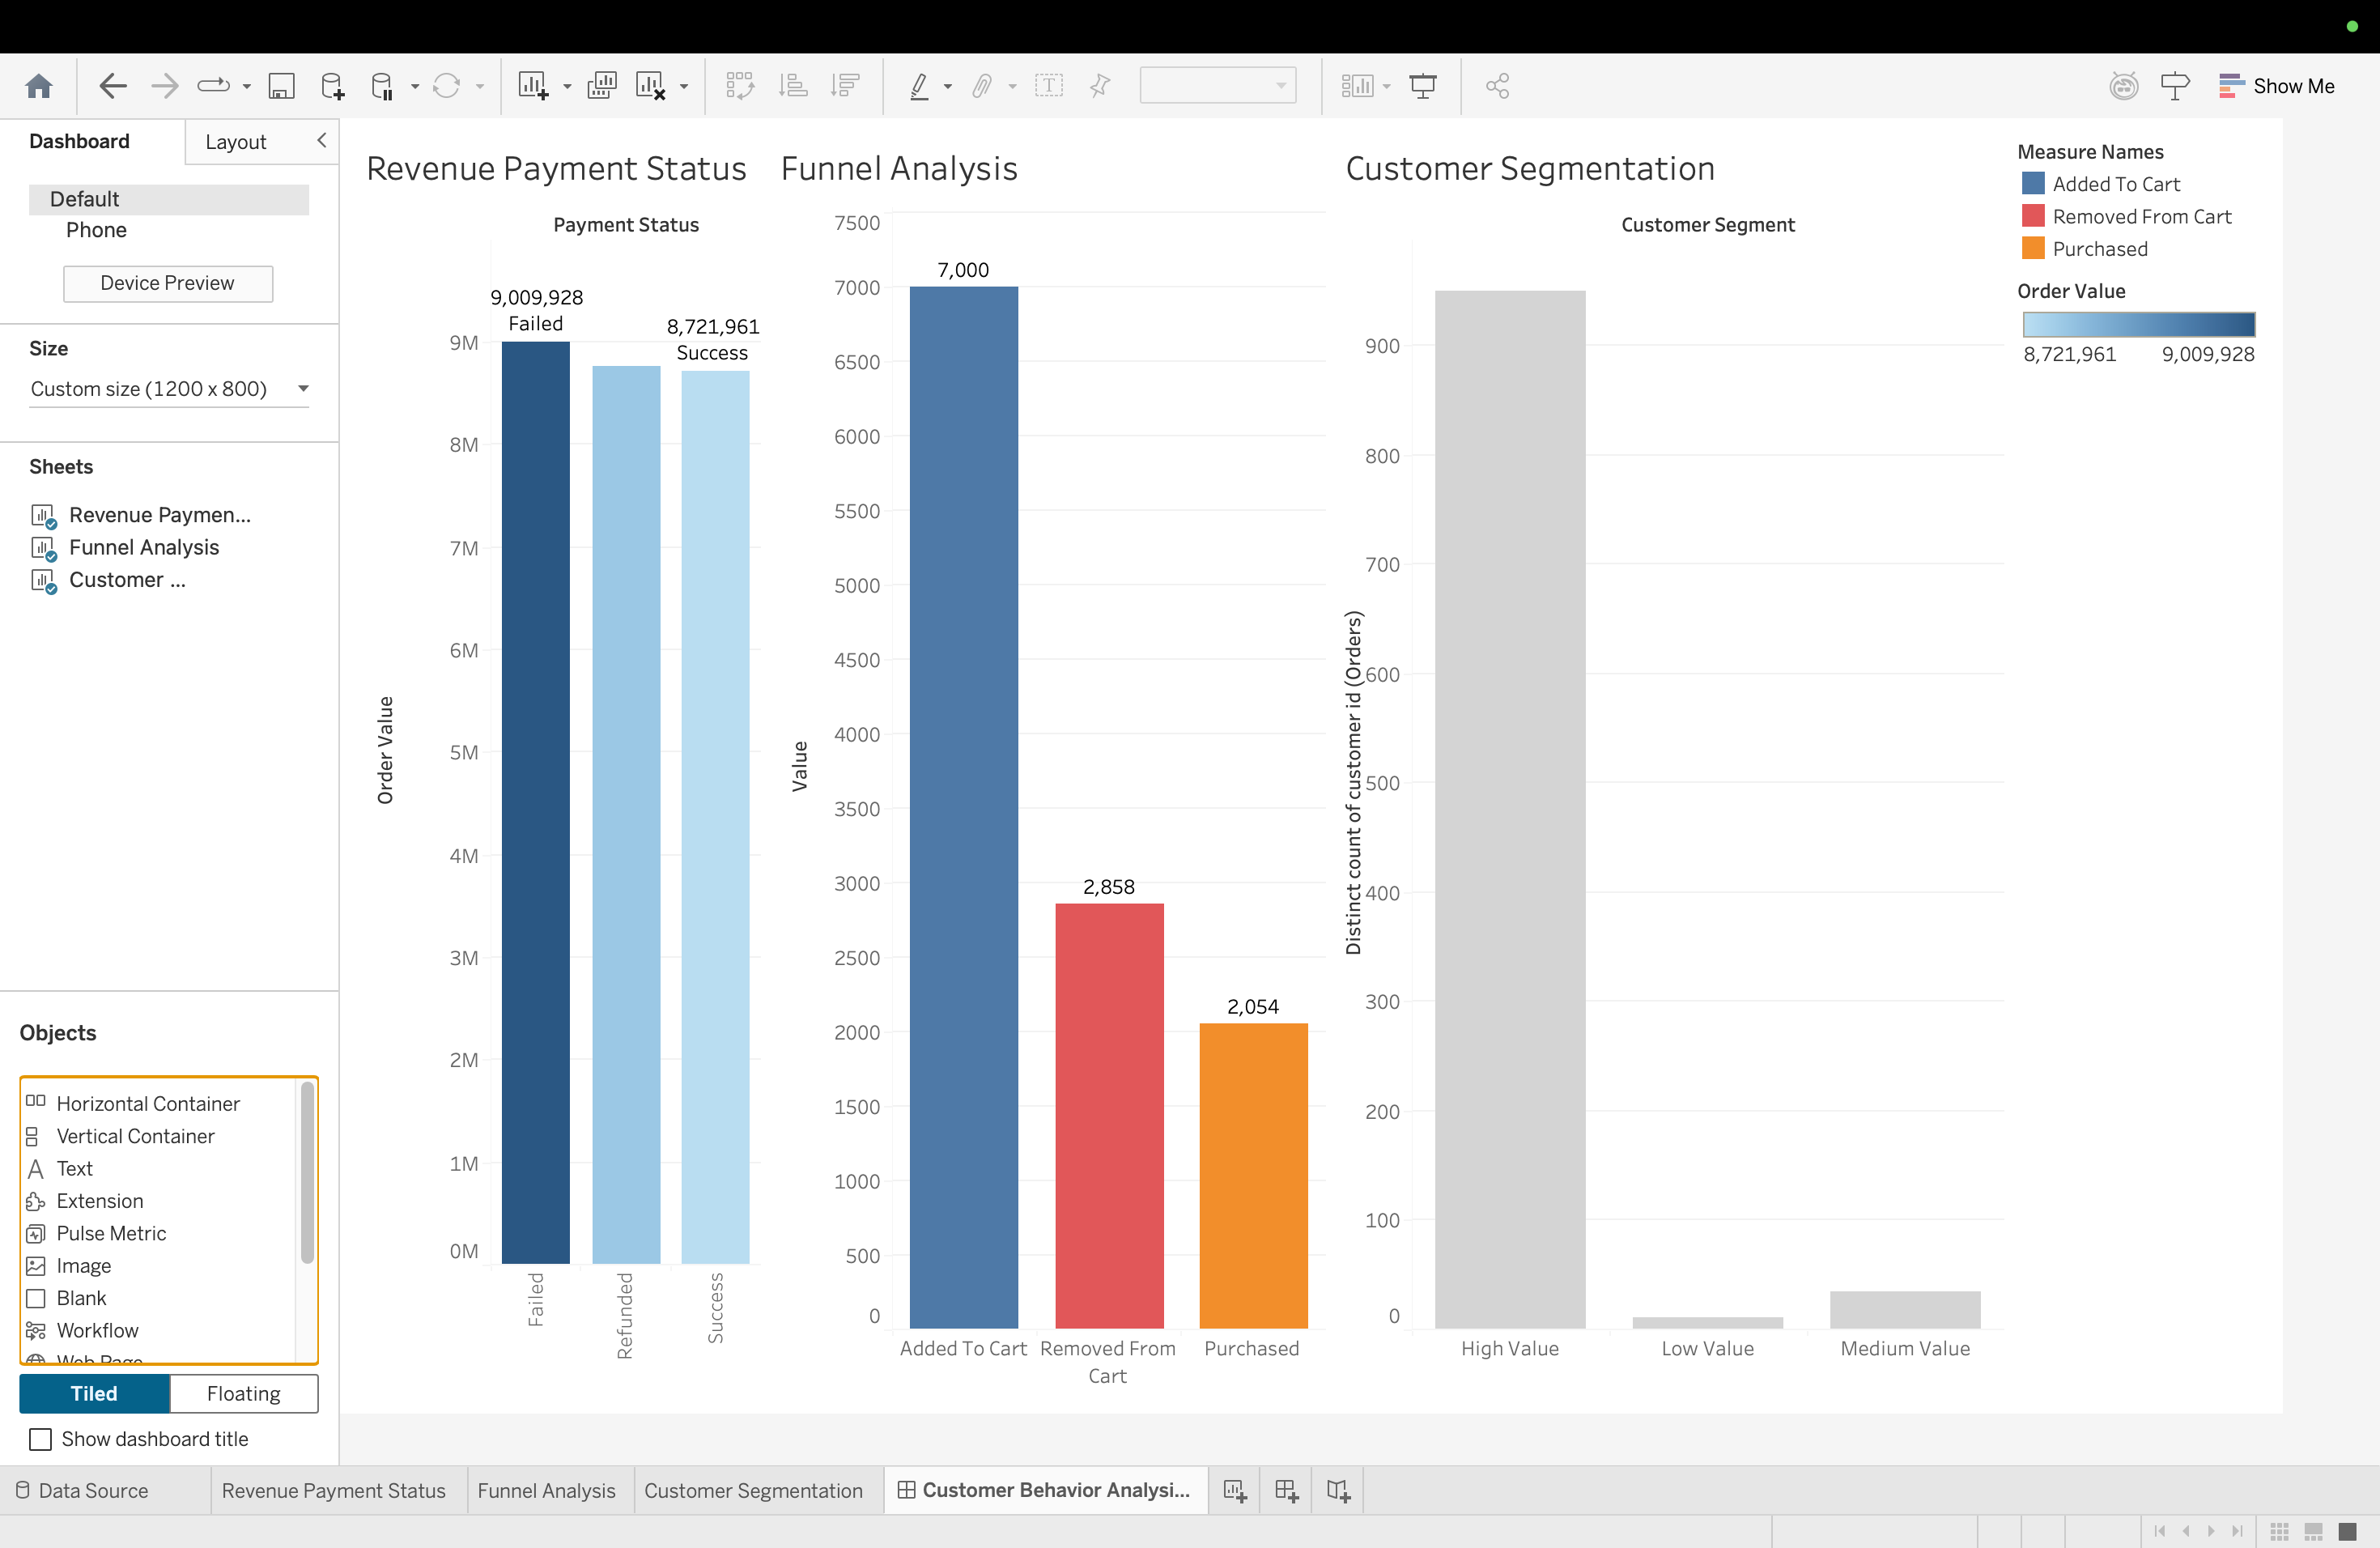

Layout of this report page (visuals, bound fields, positions):
{"tool":"tableau","page":{"name":"Customer Behavior Analysis Dashboard","canvas":[1200,800],"ordinal":0},"visuals":[{"type":"worksheet","title":"Revenue Payment Status","mark":"Automatic","rows":["order_value"],"cols":["payment_status"],"box":[8,8,256,784]},{"type":"worksheet","title":"Funnel Analysis","mark":"Automatic","box":[264,8,349,784]},{"type":"worksheet","title":"Customer Segmentation","mark":"Automatic","rows":["customer_id (Orders)"],"cols":["Calculation_4971569753153536"],"box":[613,8,419,784]},{"type":"legend","title":"Funnel Analysis","param":"[federated.12rcdfl0ckmiqm15cisjo1wl9ni1].[:Measure Names]","box":[1032,8,160,86]},{"type":"legend","title":"Revenue Payment Status","param":"[federated.12rcdfl0ckmiqm15cisjo1wl9ni1].[sum:order_value:qk]","box":[1032,94,160,65]}]}

Visuals, with their boxes on the page's 1200x800 design canvas (x1, y1, x2, y2). These are canvas units, not pixel positions in the 2380x1548 screenshot, which may show the page scaled, cropped or inside an application window:
"Revenue Payment Status" worksheet: {"left": 8, "top": 8, "right": 264, "bottom": 792}
"Funnel Analysis" worksheet: {"left": 264, "top": 8, "right": 613, "bottom": 792}
"Customer Segmentation" worksheet: {"left": 613, "top": 8, "right": 1032, "bottom": 792}
"Funnel Analysis" legend: {"left": 1032, "top": 8, "right": 1192, "bottom": 94}
"Revenue Payment Status" legend: {"left": 1032, "top": 94, "right": 1192, "bottom": 159}
